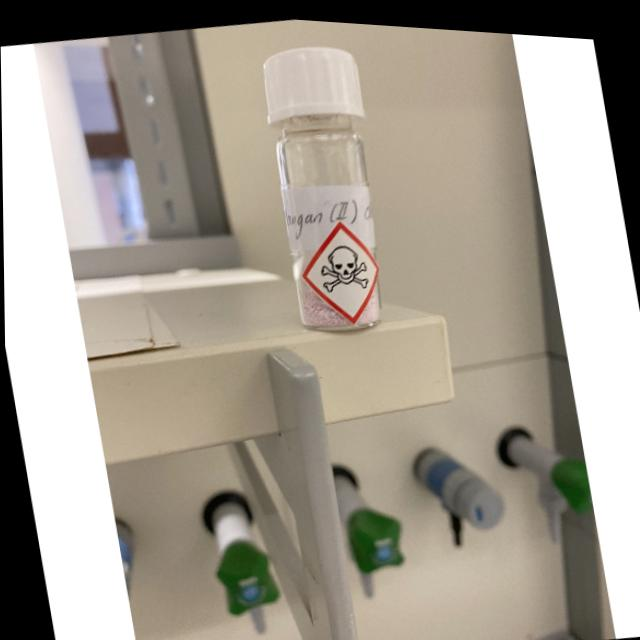acute toxicity: (317, 236, 370, 291)
